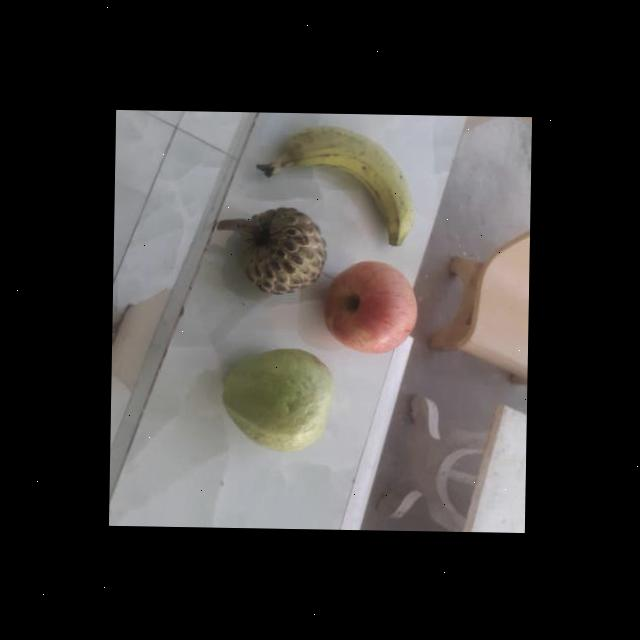Sakya fruit: (231, 205, 327, 296)
apple: (322, 255, 421, 358)
banana: (272, 124, 416, 248)
guava: (222, 350, 331, 453)
